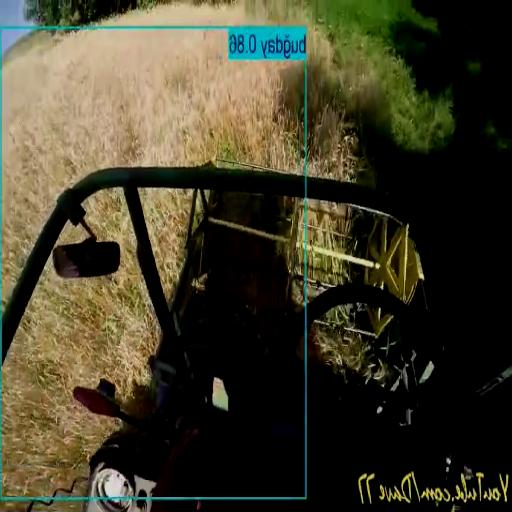bugday: (2, 30, 304, 303), (3, 191, 156, 493), (309, 34, 356, 177), (141, 190, 192, 296)
